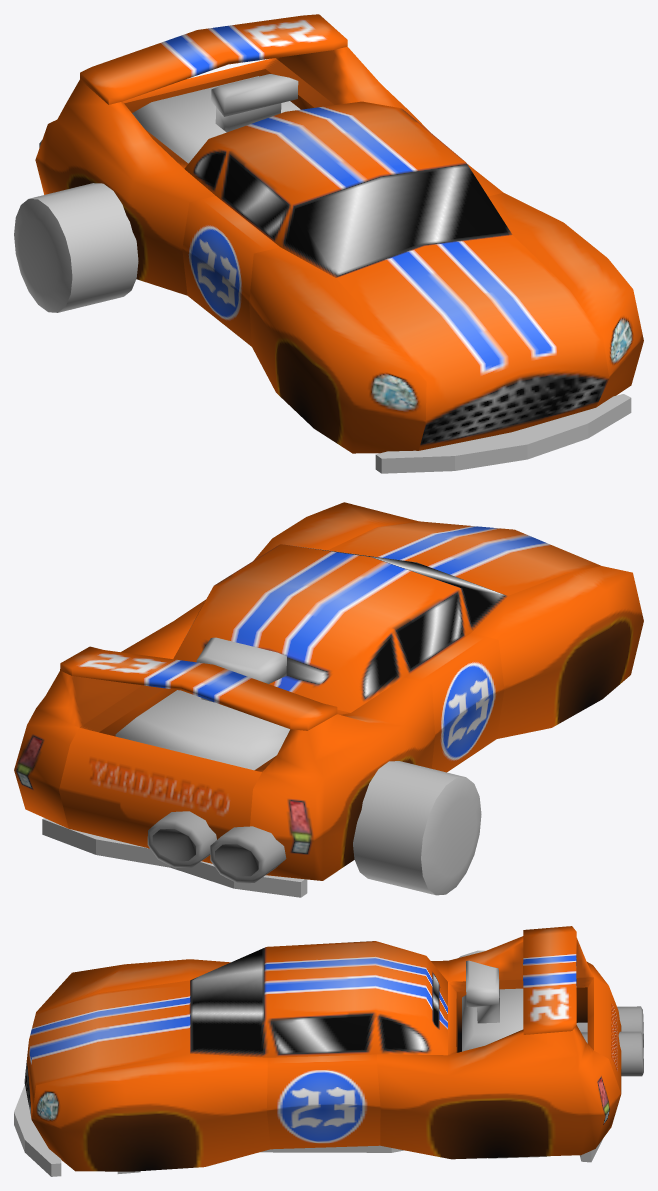
File: toyCarScaleApply.fbx
The picture shows the model from 3 angles, top to bottom: view 1: azimuth 30°, elevation 25°; view 2: azimuth 150°, elevation 25°; view 3: azimuth 270°, elevation 25°; orthographic projection. The views are drawn at different scales.
Visible parts, largest first — view 1: carBody, wheel; view 2: carBody, wheel; view 3: carBody.
Part boxes in pixels (box(x1,y1,x2,y2)): carBody: box(35, 14, 643, 473); wheel: box(14, 183, 138, 312); carBody: box(14, 502, 643, 897); wheel: box(353, 761, 481, 895); carBody: box(14, 926, 643, 1176).
Size of the model in its own units: 2.34 by 1.17 by 4.14.
